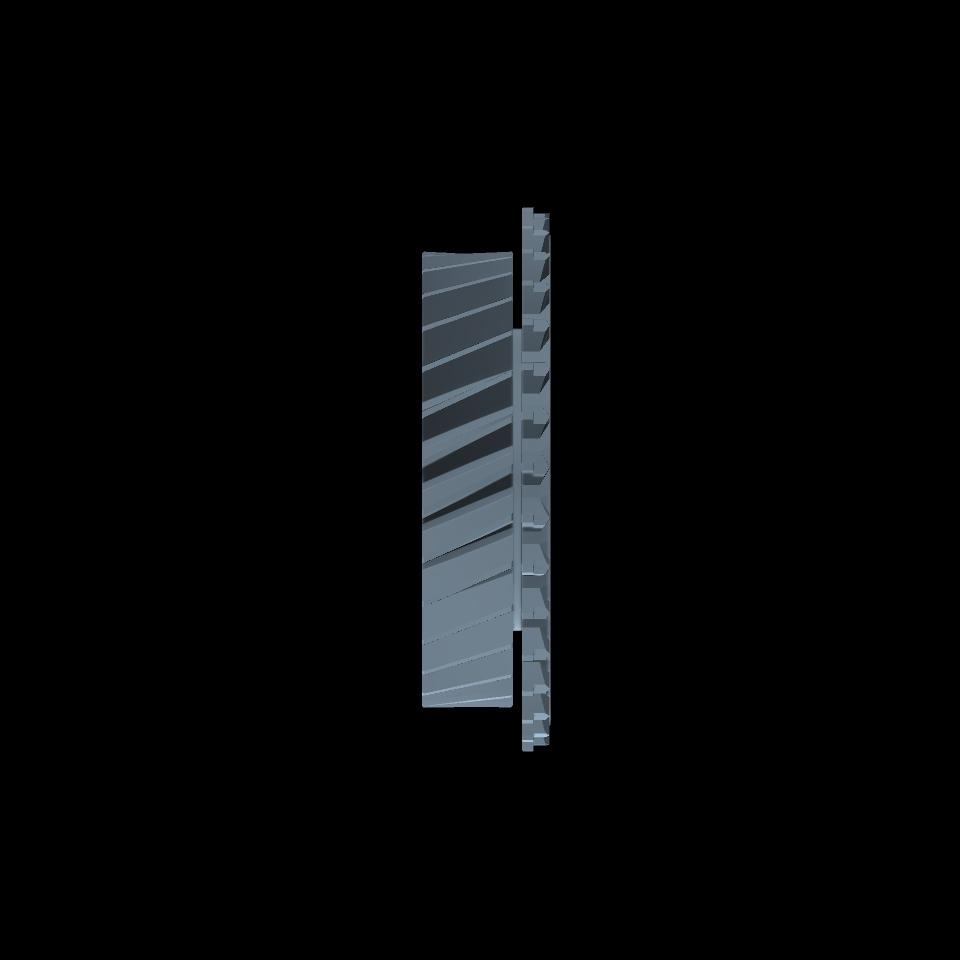Helical: (421, 250, 512, 706)
Straight: (522, 207, 543, 749)
